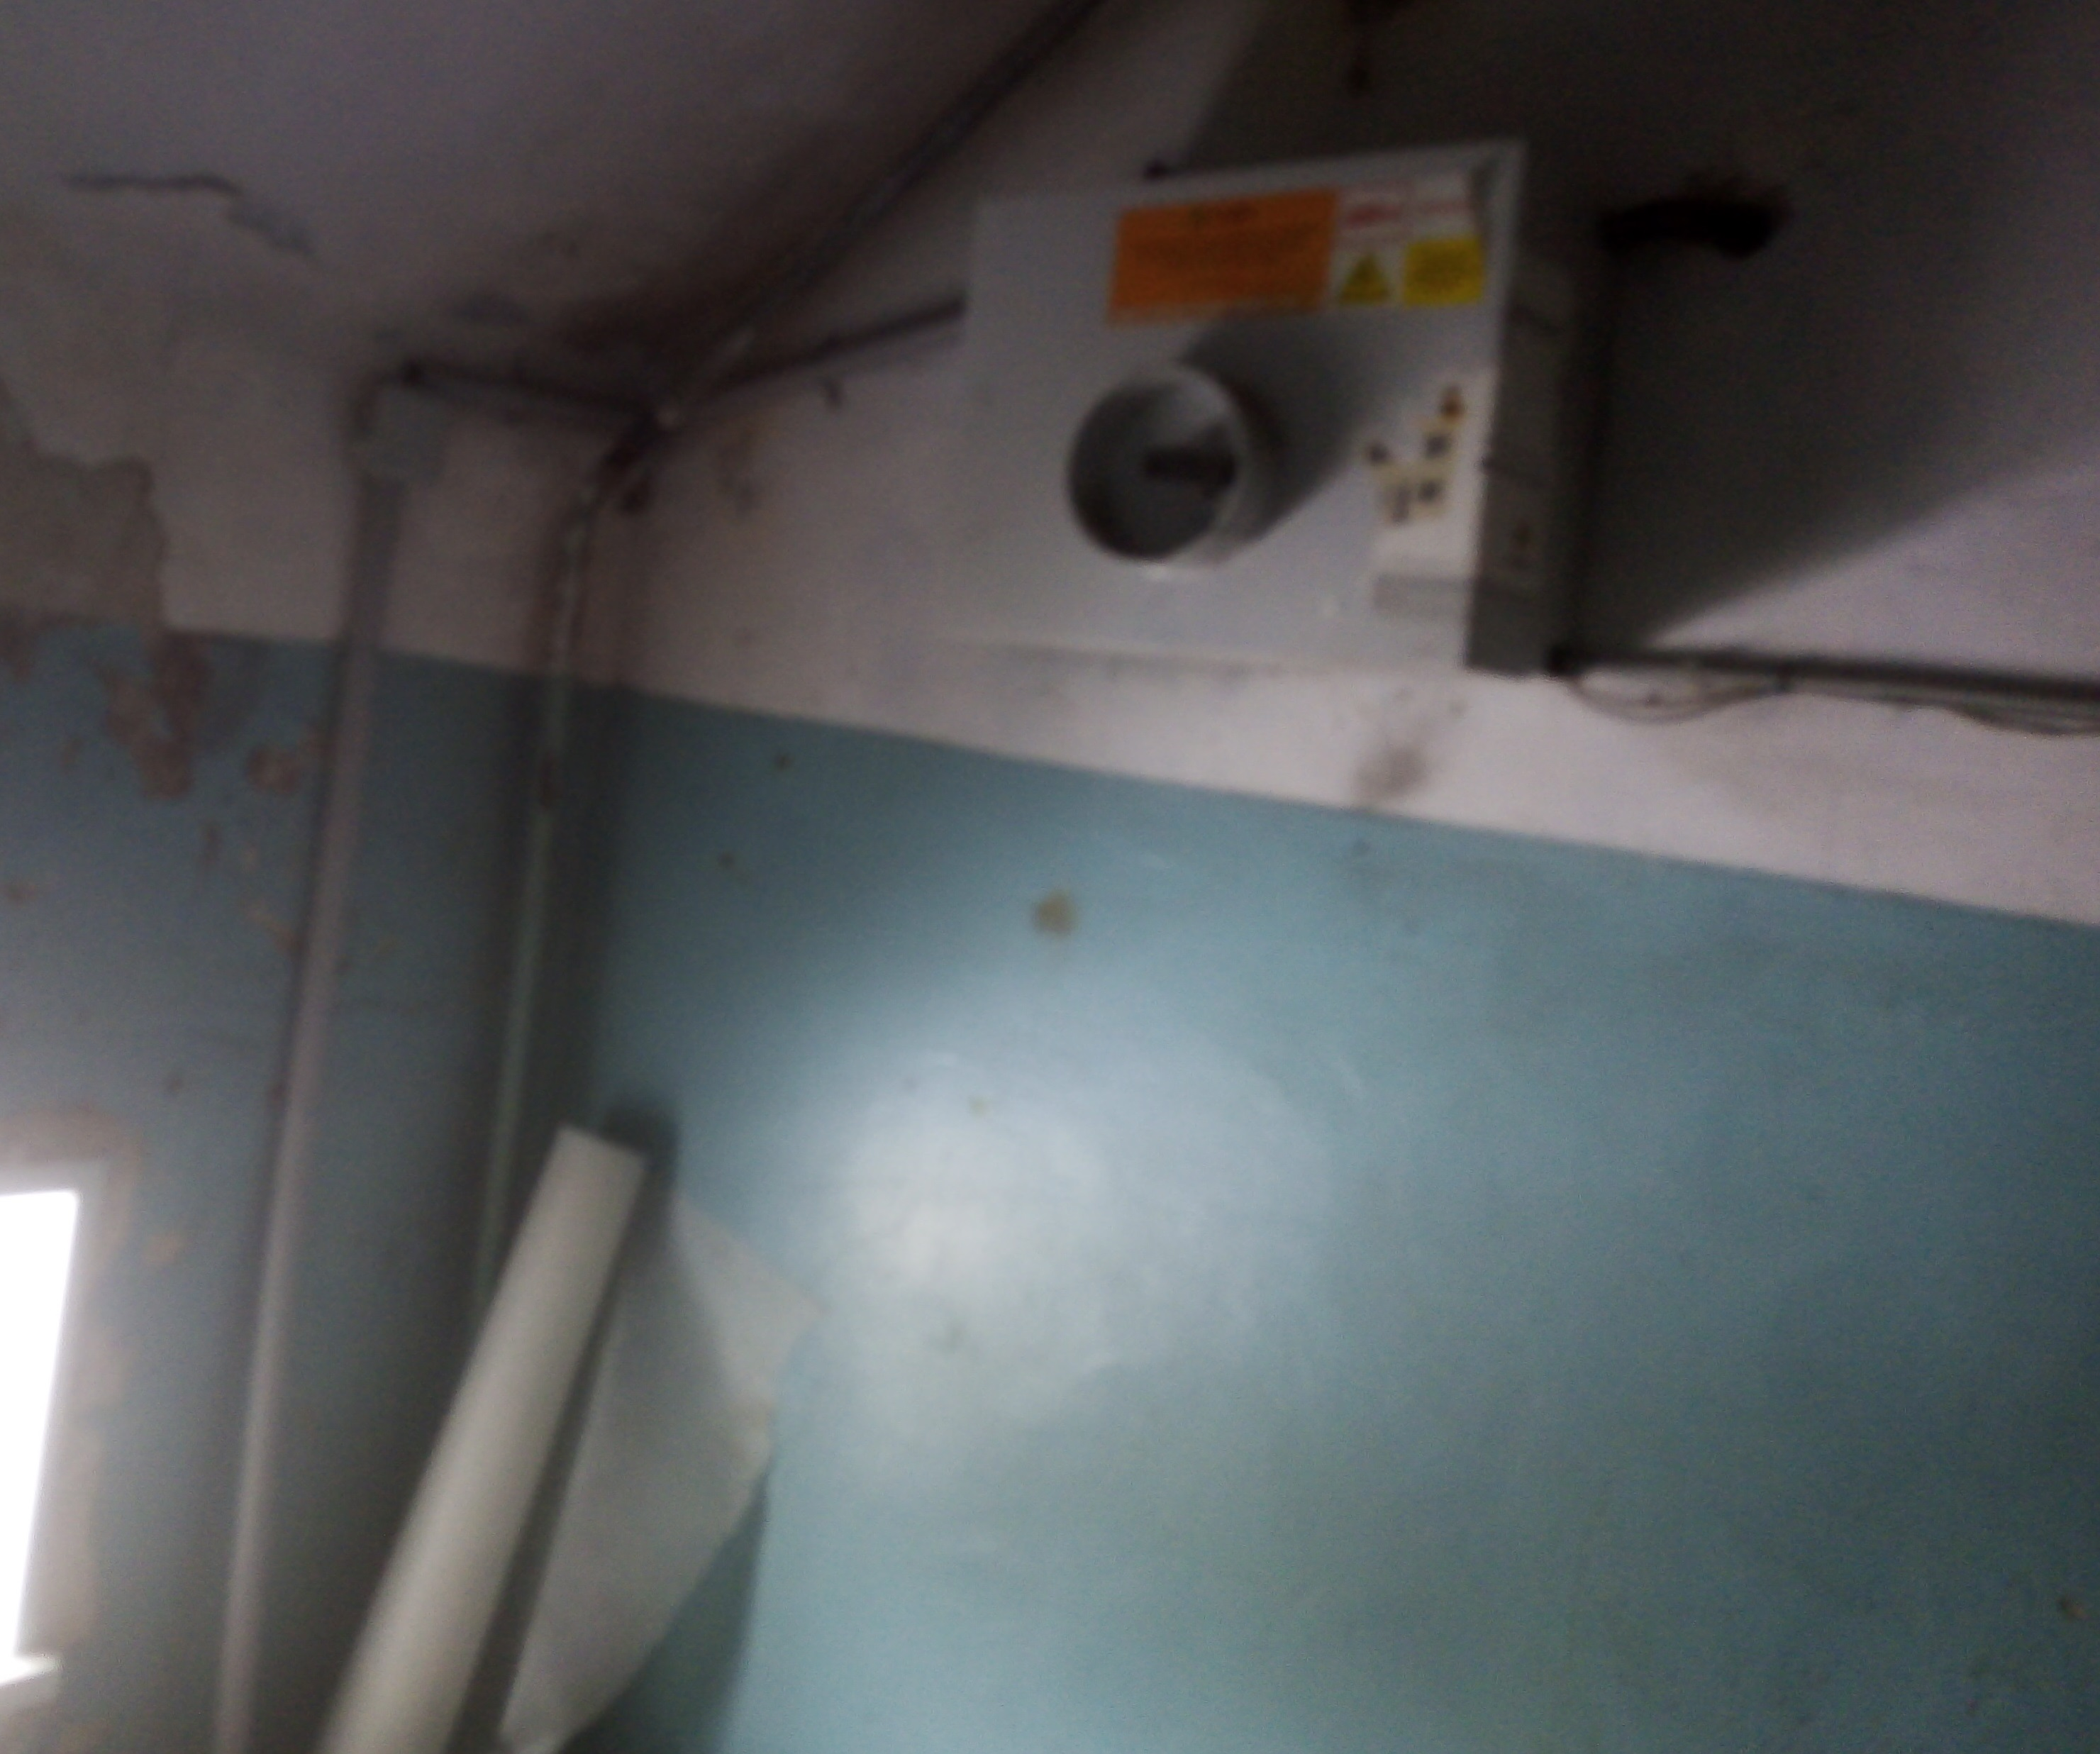shta-3: (912, 138, 1633, 685)
